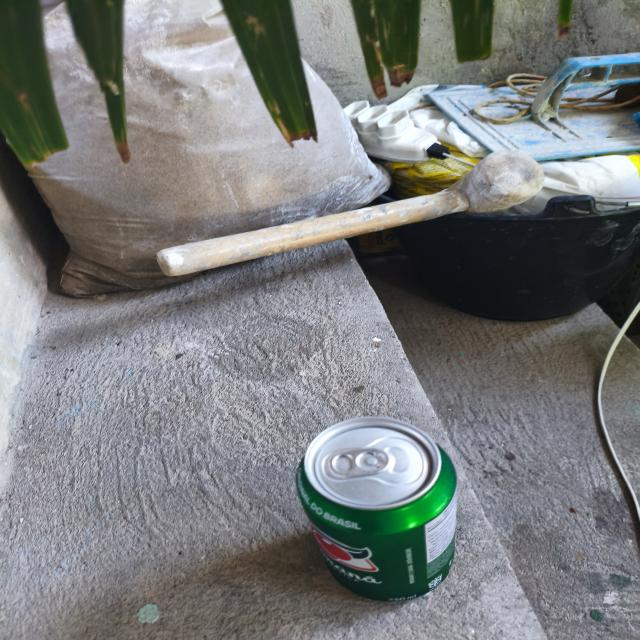Guarana: (266, 409, 480, 622)
